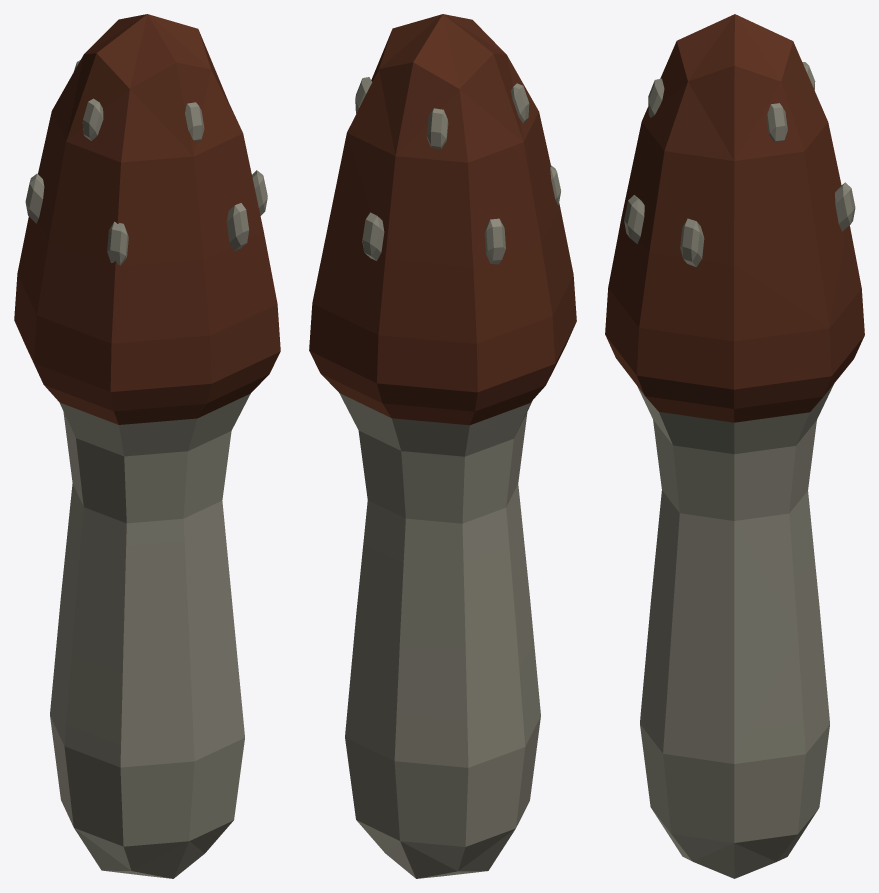
Rendered from plant_mushroom_giant_4.glb.
3 renders of one model, left to right at view 1: azimuth 30°, elevation 25°; view 2: azimuth 150°, elevation 25°; view 3: azimuth 270°, elevation 25°, orthographic.
Parts seen in each view (by area): view 1: plant_mushroom_giant_4; view 2: plant_mushroom_giant_4; view 3: plant_mushroom_giant_4.
Boxes of the visible parts, <box> form: plant_mushroom_giant_4: <box>14,14,280,878</box>; plant_mushroom_giant_4: <box>309,14,576,878</box>; plant_mushroom_giant_4: <box>605,14,864,878</box>.
Size of the model in its own units: 3.29 by 12 by 3.29.
